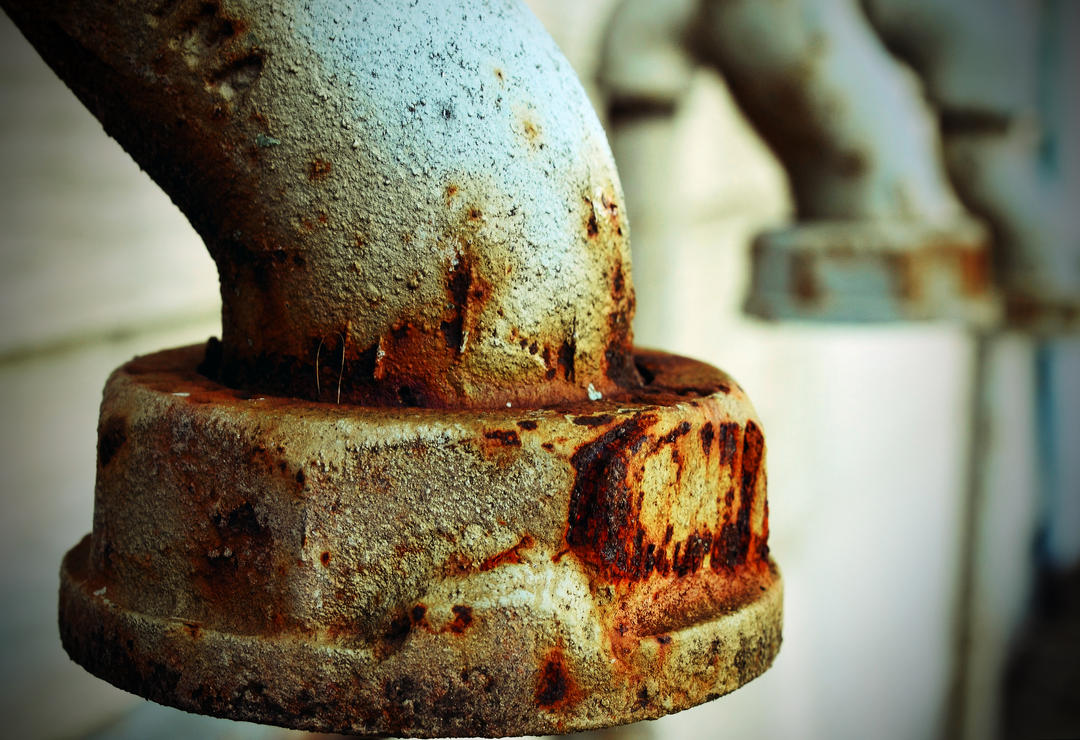Moderate: (340, 187, 742, 404), (566, 410, 787, 586)
